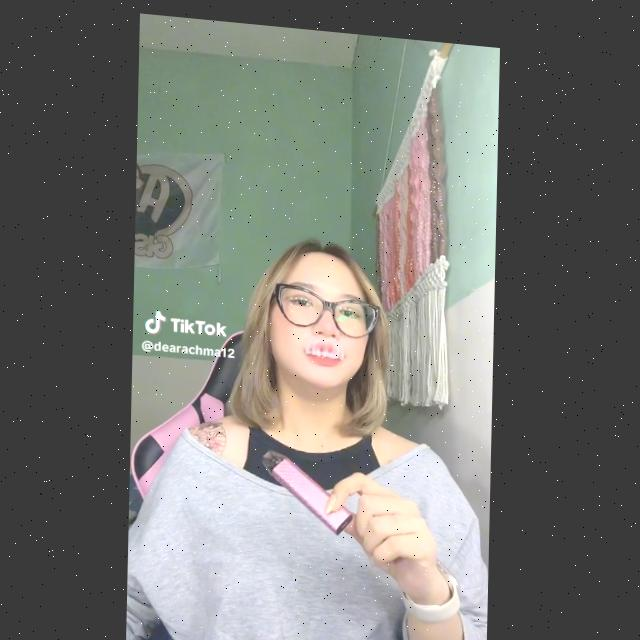vape: (262, 442, 356, 530)
